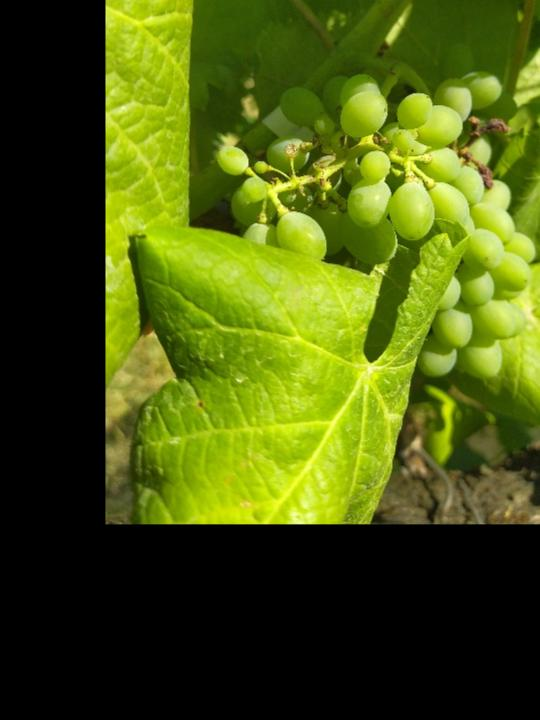grape: (211, 40, 537, 384)
